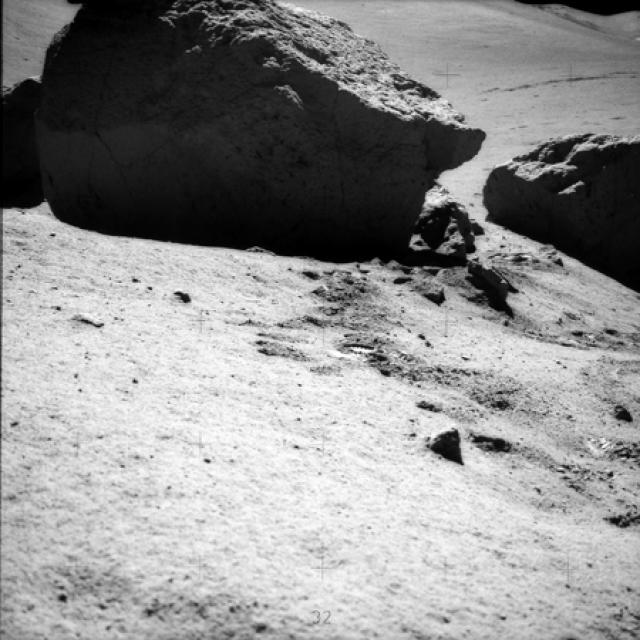rock: (43, 0, 483, 261), (489, 118, 639, 298), (0, 82, 47, 209), (446, 262, 516, 316), (417, 419, 466, 466)
